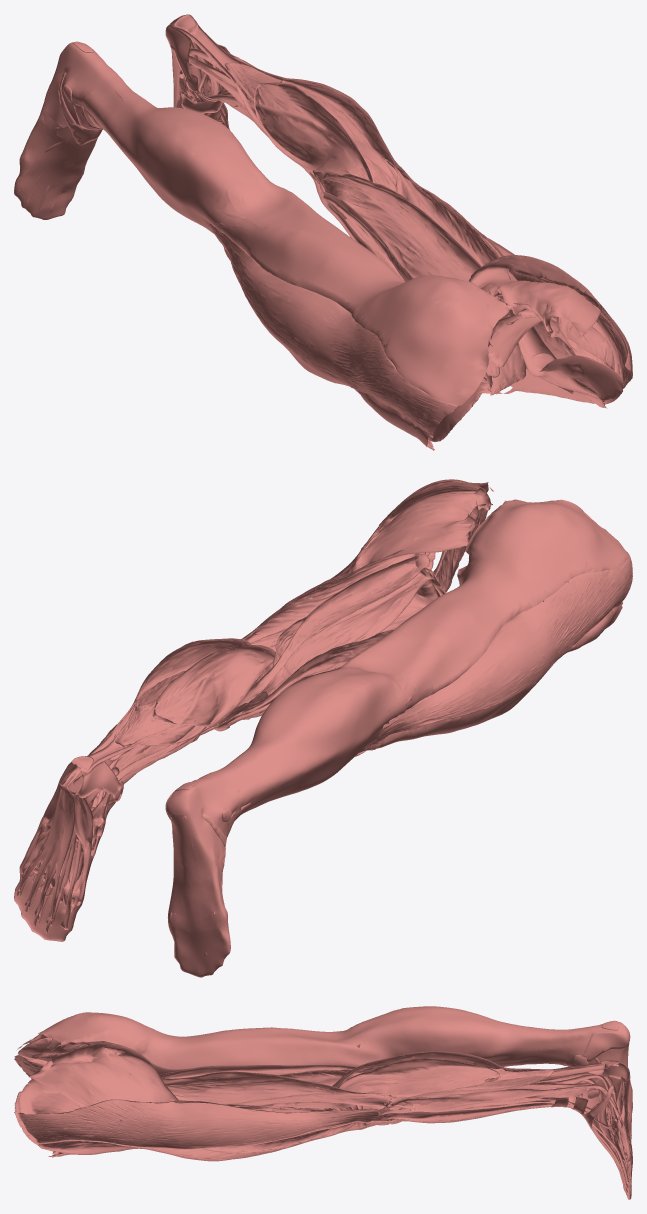
Rendered from lowerlimb__muscular.5fedd505a6.glb.
3 renders of one model, top to bottom at view 1: azimuth 30°, elevation 25°; view 2: azimuth 150°, elevation 25°; view 3: azimuth 270°, elevation 25°, orthographic. The views are drawn at different scales.
Parts seen in each view (by area): view 1: Fascia lata.r, Crural fascia.r, Iliotibial tract.r, Medial head of gastrocnemius.l, Gluteus maximus muscle.l, Semitendinosus muscle.l, Semimembranosus muscle.l, Iliacus muscle.l, Lateral head of gastrocnemius.l, Long head of biceps femoris.l, Popliteal fascia.r, Gluteus medius muscle.l (+13 smaller); view 2: Fascia lata.r, Crural fascia.r, Iliotibial tract.r, Gluteus maximus muscle.l, Medial head of gastrocnemius.l, Semimembranosus muscle.l, Semitendinosus muscle.l, Crural fascia.l, Long head of biceps femoris.l, Flexor digitorum brevis.l, Plantar aponeurosis.r, Lateral head of gastrocnemius.l (+10 smaller); view 3: Iliotibial tract.l, Crural fascia.r, Fascia lata.r, Gluteus maximus muscle.l, Long head of biceps femoris.l, Lateral head of gastrocnemius.l, Fibularis longus muscle.l, Vastus lateralis muscle.l, Gluteus medius muscle.l, Semitendinosus muscle.l, Tibialis anterior muscle.l, Crural fascia.l (+23 smaller).
Part boxes in pixels (x1,y1,x2,y2): Fascia lata.r: (209, 187, 510, 446); Crural fascia.r: (14, 42, 274, 249); Iliotibial tract.r: (210, 223, 457, 435); Medial head of gastrocnemius.l: (253, 82, 372, 181); Gluteus maximus muscle.l: (470, 256, 601, 336); Semitendinosus muscle.l: (312, 169, 500, 299); Semimembranosus muscle.l: (319, 174, 501, 300); Iliacus muscle.l: (518, 327, 623, 400); Lateral head of gastrocnemius.l: (280, 79, 400, 185); Long head of biceps femoris.l: (379, 154, 511, 293); Popliteal fascia.r: (227, 179, 309, 226); Gluteus medius muscle.l: (556, 313, 629, 381); Fascia lata.r: (339, 499, 629, 748); Crural fascia.r: (166, 667, 398, 977); Iliotibial tract.r: (369, 552, 632, 744); Gluteus maximus muscle.l: (350, 480, 492, 571); Medial head of gastrocnemius.l: (151, 645, 284, 726); Semimembranosus muscle.l: (247, 568, 434, 704); Semitendinosus muscle.l: (229, 554, 429, 714); Crural fascia.l: (14, 638, 264, 941); Long head of biceps femoris.l: (241, 549, 425, 647); Flexor digitorum brevis.l: (16, 786, 75, 925); Plantar aponeurosis.r: (171, 814, 212, 920); Lateral head of gastrocnemius.l: (135, 639, 250, 708); Iliotibial tract.l: (17, 1099, 391, 1149); Crural fascia.r: (358, 1006, 631, 1141); Fascia lata.r: (17, 1012, 359, 1069); Gluteus maximus muscle.l: (29, 1042, 178, 1107); Long head of biceps femoris.l: (149, 1071, 391, 1107); Lateral head of gastrocnemius.l: (333, 1058, 500, 1106); Fibularis longus muscle.l: (384, 1084, 618, 1125); Vastus lateralis muscle.l: (202, 1104, 394, 1153); Gluteus medius muscle.l: (18, 1078, 121, 1121); Semitendinosus muscle.l: (160, 1065, 356, 1079); Tibialis anterior muscle.l: (382, 1103, 608, 1122); Crural fascia.l: (361, 1051, 632, 1199).
Size of the model in its own units: 312 by 244 by 966.
